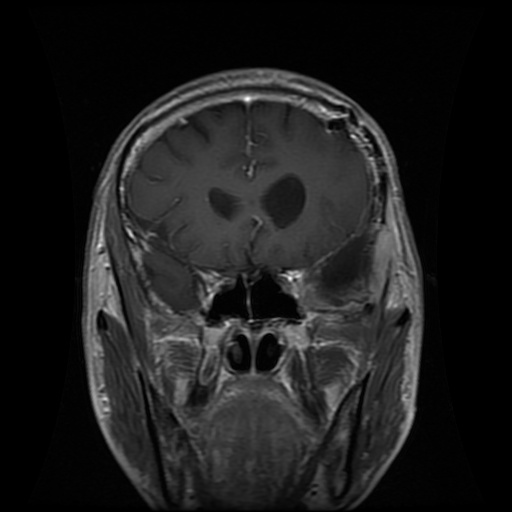glioma: (305, 219, 380, 309)
